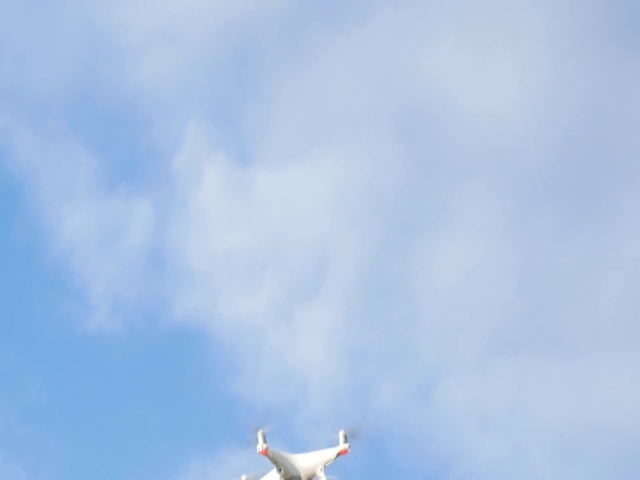drone: (223, 417, 368, 480)
